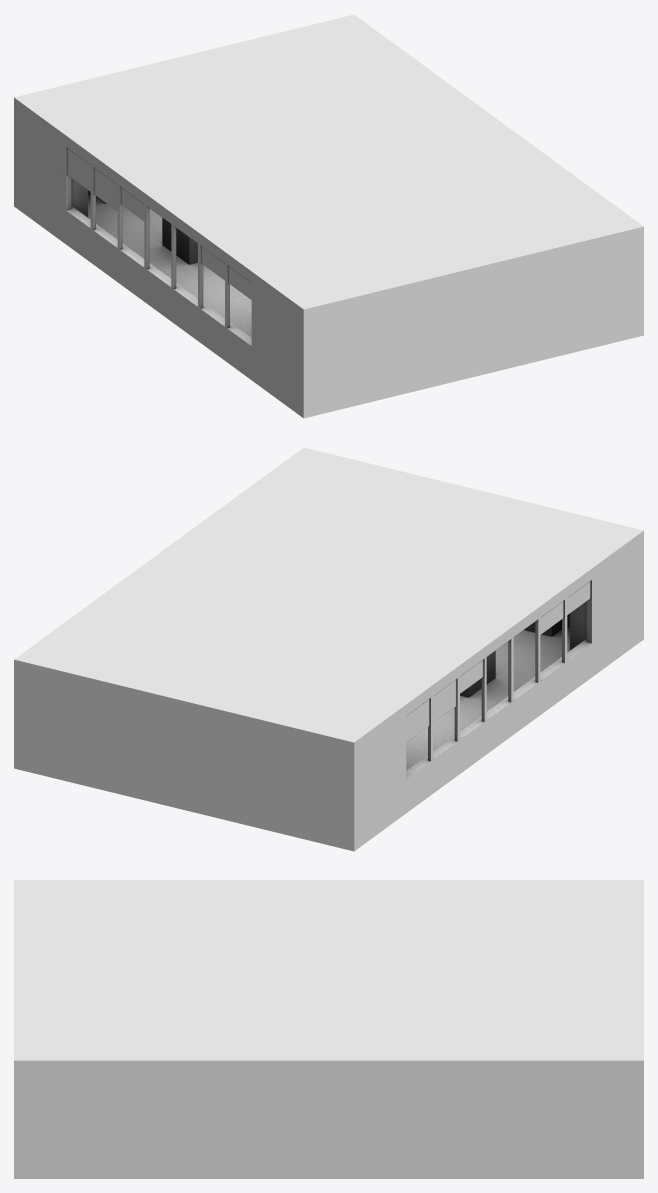
The model's file is room.FBX.
3 renders of one model, top to bottom at view 1: azimuth 30°, elevation 25°; view 2: azimuth 150°, elevation 25°; view 3: azimuth 270°, elevation 25°, orthographic. The views are drawn at different scales.
Visible parts, largest first — view 1: room_wall; view 2: room_wall; view 3: room_wall.
Part boxes in pixels (<box>): room_wall: <box>14,14,643,418</box>; room_wall: <box>14,447,643,851</box>; room_wall: <box>14,880,643,1178</box>.
Bounding box in the file's own units: 915 × 280 × 1350.
